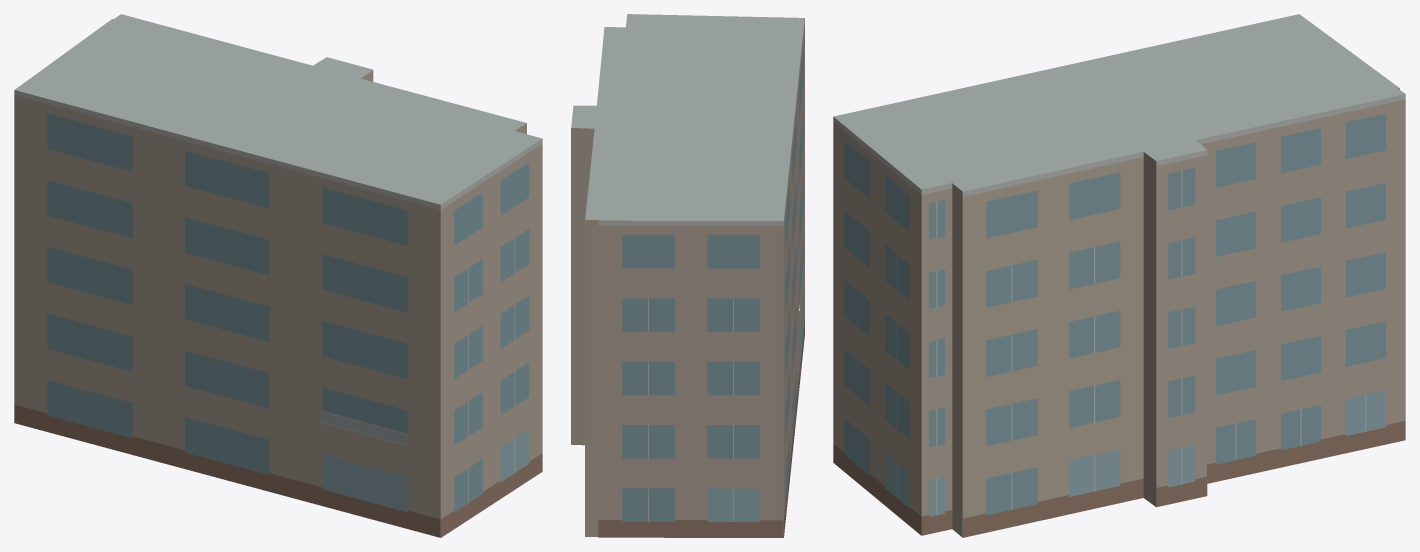
File: survey-upis-32666669.glb
3 renders of one model, left to right at view 1: azimuth 30°, elevation 25°; view 2: azimuth 150°, elevation 25°; view 3: azimuth 270°, elevation 25°, orthographic. The views are drawn at different scales.
Visible parts, largest first — view 1: survey-upis-32666669.tmp; view 2: survey-upis-32666669.tmp; view 3: survey-upis-32666669.tmp.
Boxes of the visible parts, x1,y1,x2,y2 form: survey-upis-32666669.tmp: [14, 14, 542, 537]; survey-upis-32666669.tmp: [571, 14, 804, 537]; survey-upis-32666669.tmp: [833, 14, 1405, 537].
Bounding box in the file's own units: 17.31 × 15.71 × 23.55.
